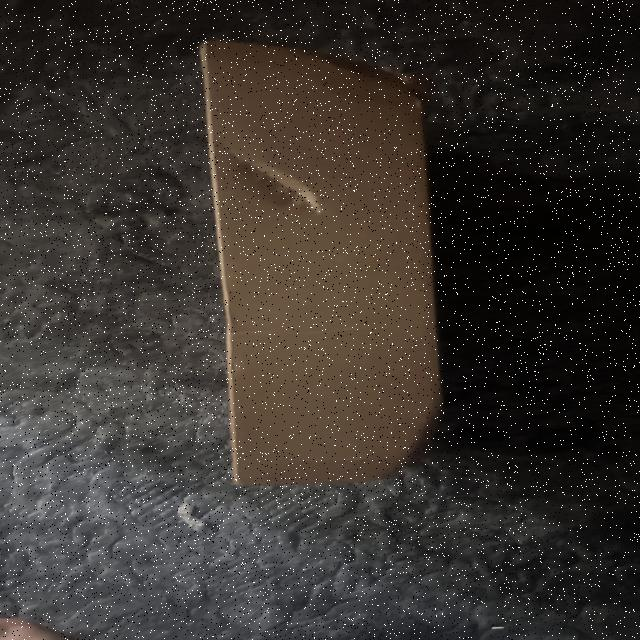damaged: (189, 37, 452, 499), (288, 40, 447, 107), (217, 143, 335, 223), (378, 396, 446, 484)
